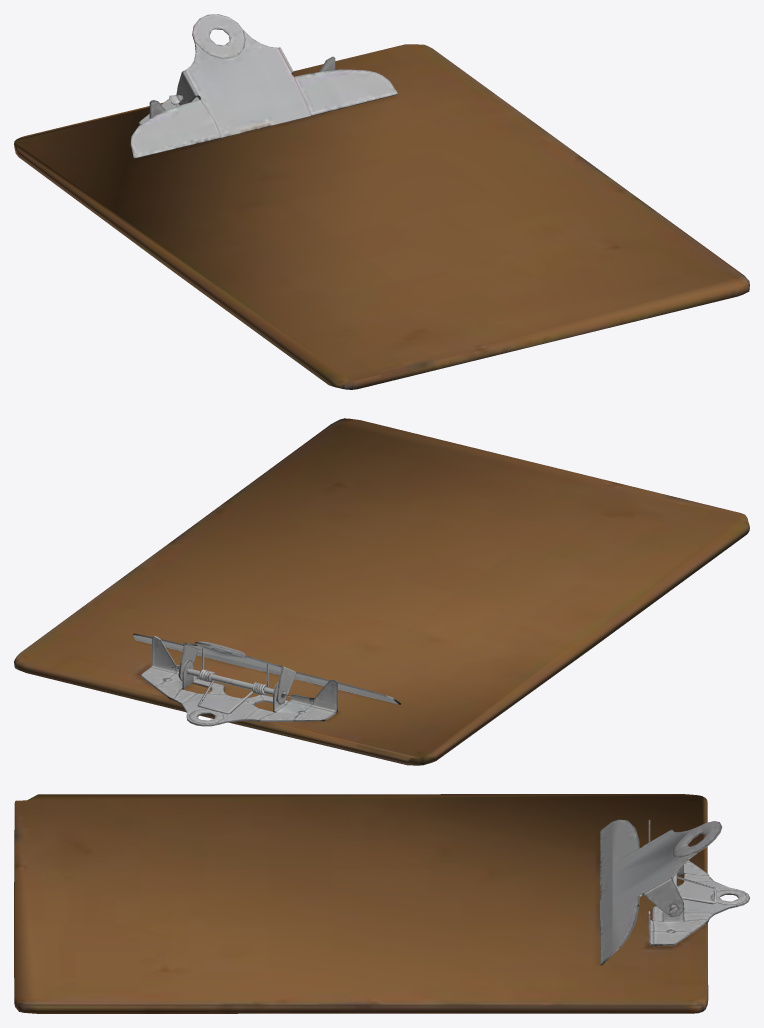
File: cc0_clipboard.glb
3 renders of one model, top to bottom at view 1: azimuth 30°, elevation 25°; view 2: azimuth 150°, elevation 25°; view 3: azimuth 270°, elevation 25°, orthographic. The views are drawn at different scales.
Parts seen in each view (by area): view 1: clipboard; view 2: clipboard; view 3: clipboard.
Boxes of the visible parts, left/top/right/bottom form: clipboard: left=14, top=14, right=749, bottom=389; clipboard: left=14, top=418, right=749, bottom=765; clipboard: left=14, top=794, right=749, bottom=1013.
Size of the model in its own units: 0.2281 by 0.042 by 0.3365.
1 material, 1 textured.
